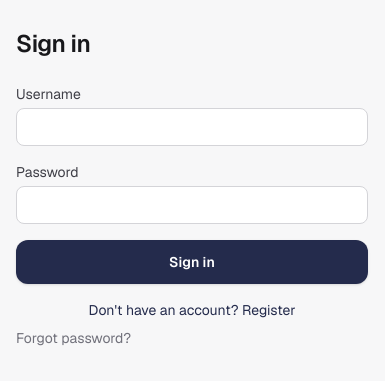
Change 49: pages show a localised "too many attempts" message › login (en): says how many minutes to wait, not the raw server text
Type "bob" into the field labelled "Username".
click(192, 127); type("bob")  # box [16,108,368,146]
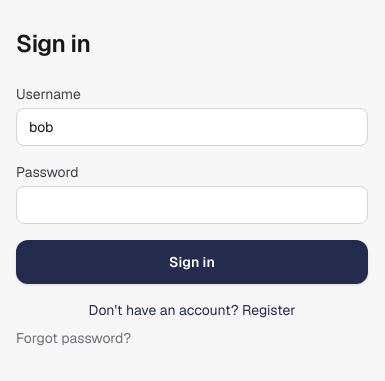
Type "whatever" into the password field labelled "Password".
click(192, 205); type("whatever")  # box [16,186,368,224]
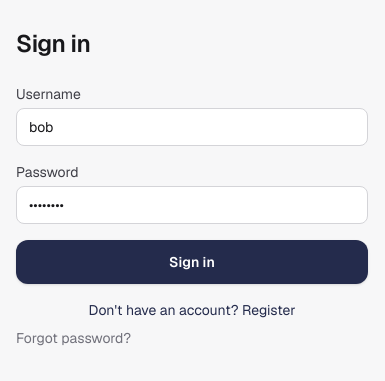
Click the button "Sign in".
click(192, 262)  # box [16,240,368,284]
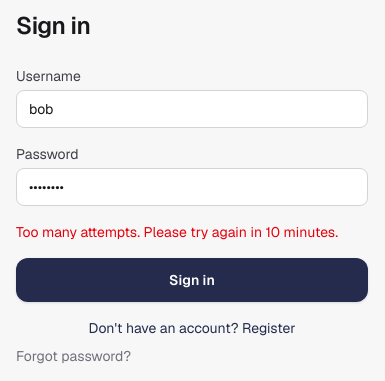
Expected: the message does not show "English server text", [16,222,368,242]
Expected: the message reads "Too many attempts. Please try again in 10 minutes.", [16,223,338,241]
